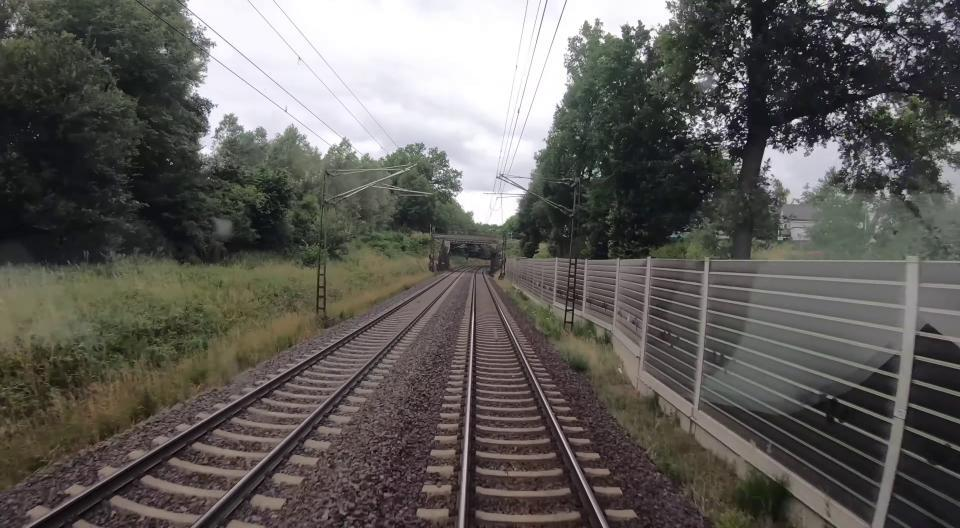Plant: (555, 340, 590, 375)
